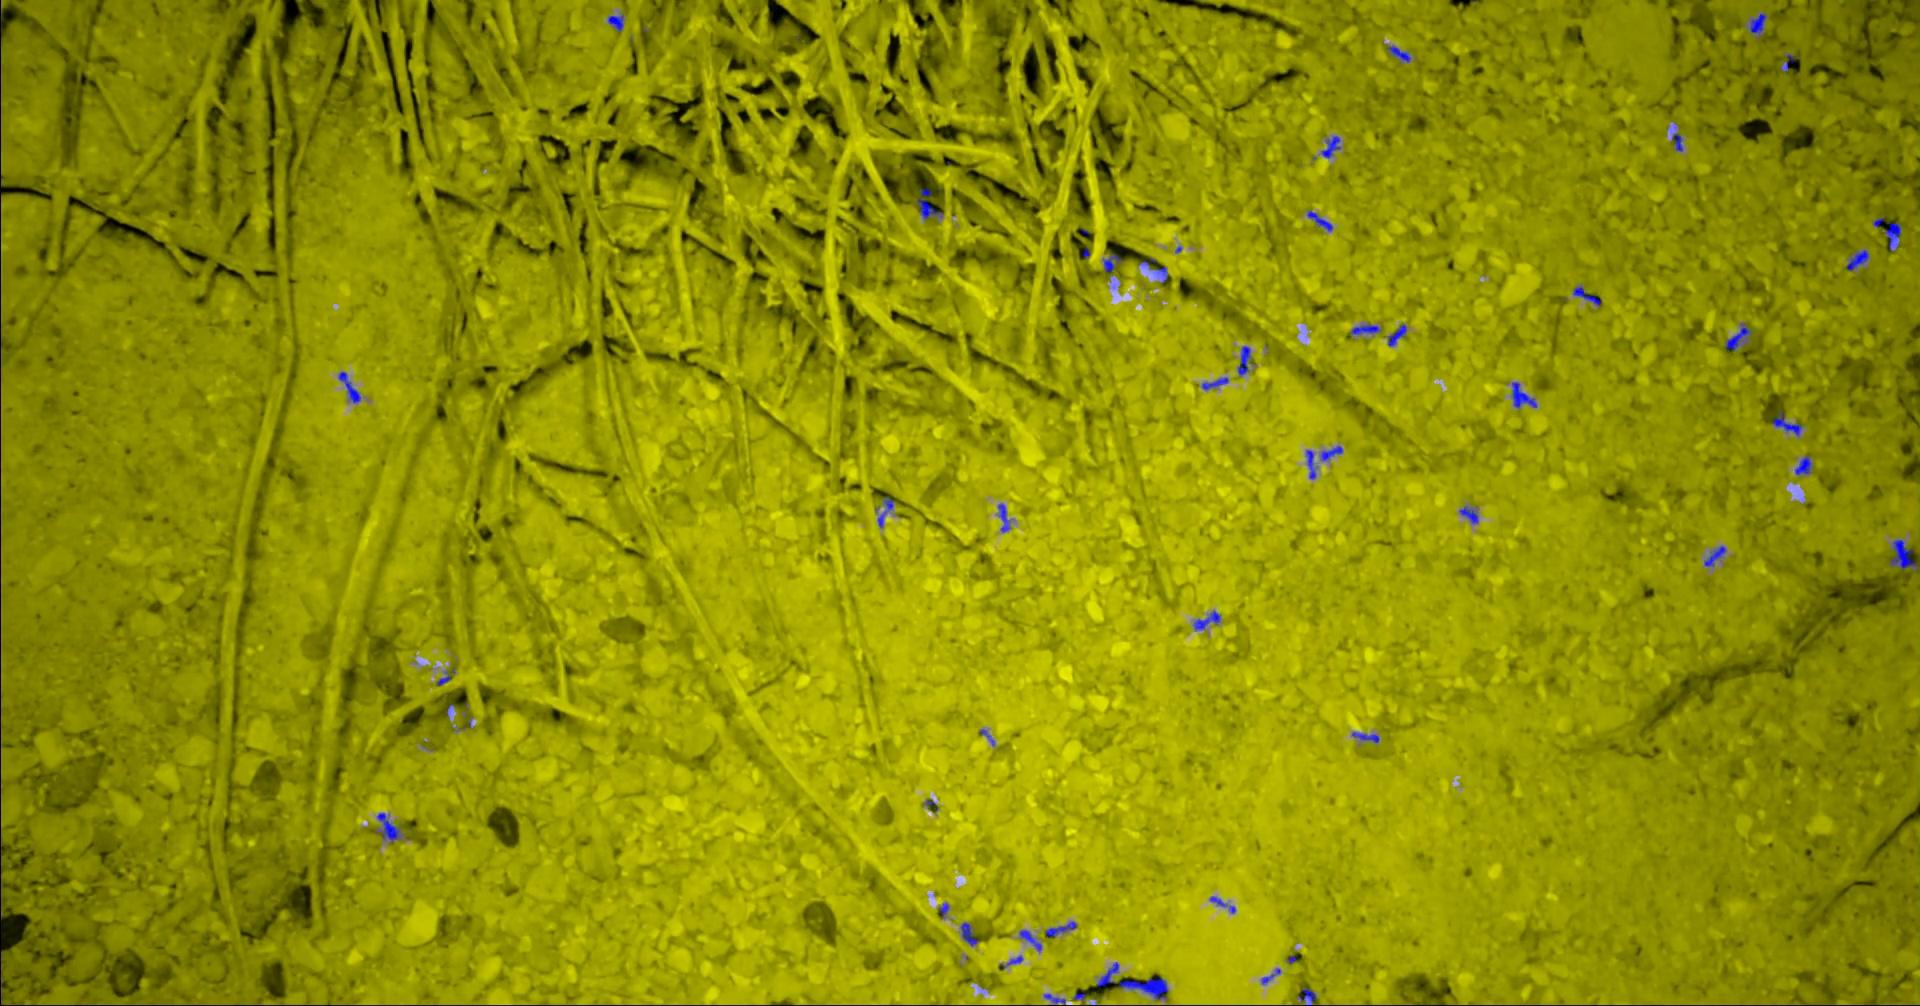ant: (1096, 962, 1167, 998), (1890, 539, 1919, 572), (916, 187, 943, 218), (337, 371, 361, 401), (1771, 412, 1802, 436), (1724, 325, 1752, 351), (376, 812, 400, 841), (1511, 381, 1537, 408), (1305, 210, 1332, 231), (1572, 285, 1600, 305), (1192, 608, 1220, 629), (1018, 929, 1041, 950), (877, 495, 893, 527), (1044, 921, 1076, 936), (1884, 222, 1901, 251), (1209, 895, 1236, 913), (1846, 249, 1868, 271), (1704, 545, 1724, 567), (1321, 135, 1340, 158), (1387, 323, 1406, 345), (1749, 13, 1766, 36), (1387, 44, 1410, 62), (960, 922, 978, 945), (1201, 376, 1228, 390), (1237, 345, 1250, 375), (1102, 253, 1121, 272), (1458, 506, 1478, 523), (997, 503, 1010, 531), (1780, 53, 1799, 71), (436, 667, 455, 685), (1297, 987, 1316, 1005), (1321, 445, 1342, 460), (1349, 324, 1380, 334), (1351, 730, 1379, 742), (1043, 993, 1070, 1005), (1794, 455, 1811, 474), (1305, 448, 1316, 478), (607, 13, 623, 30), (1671, 133, 1683, 151)
